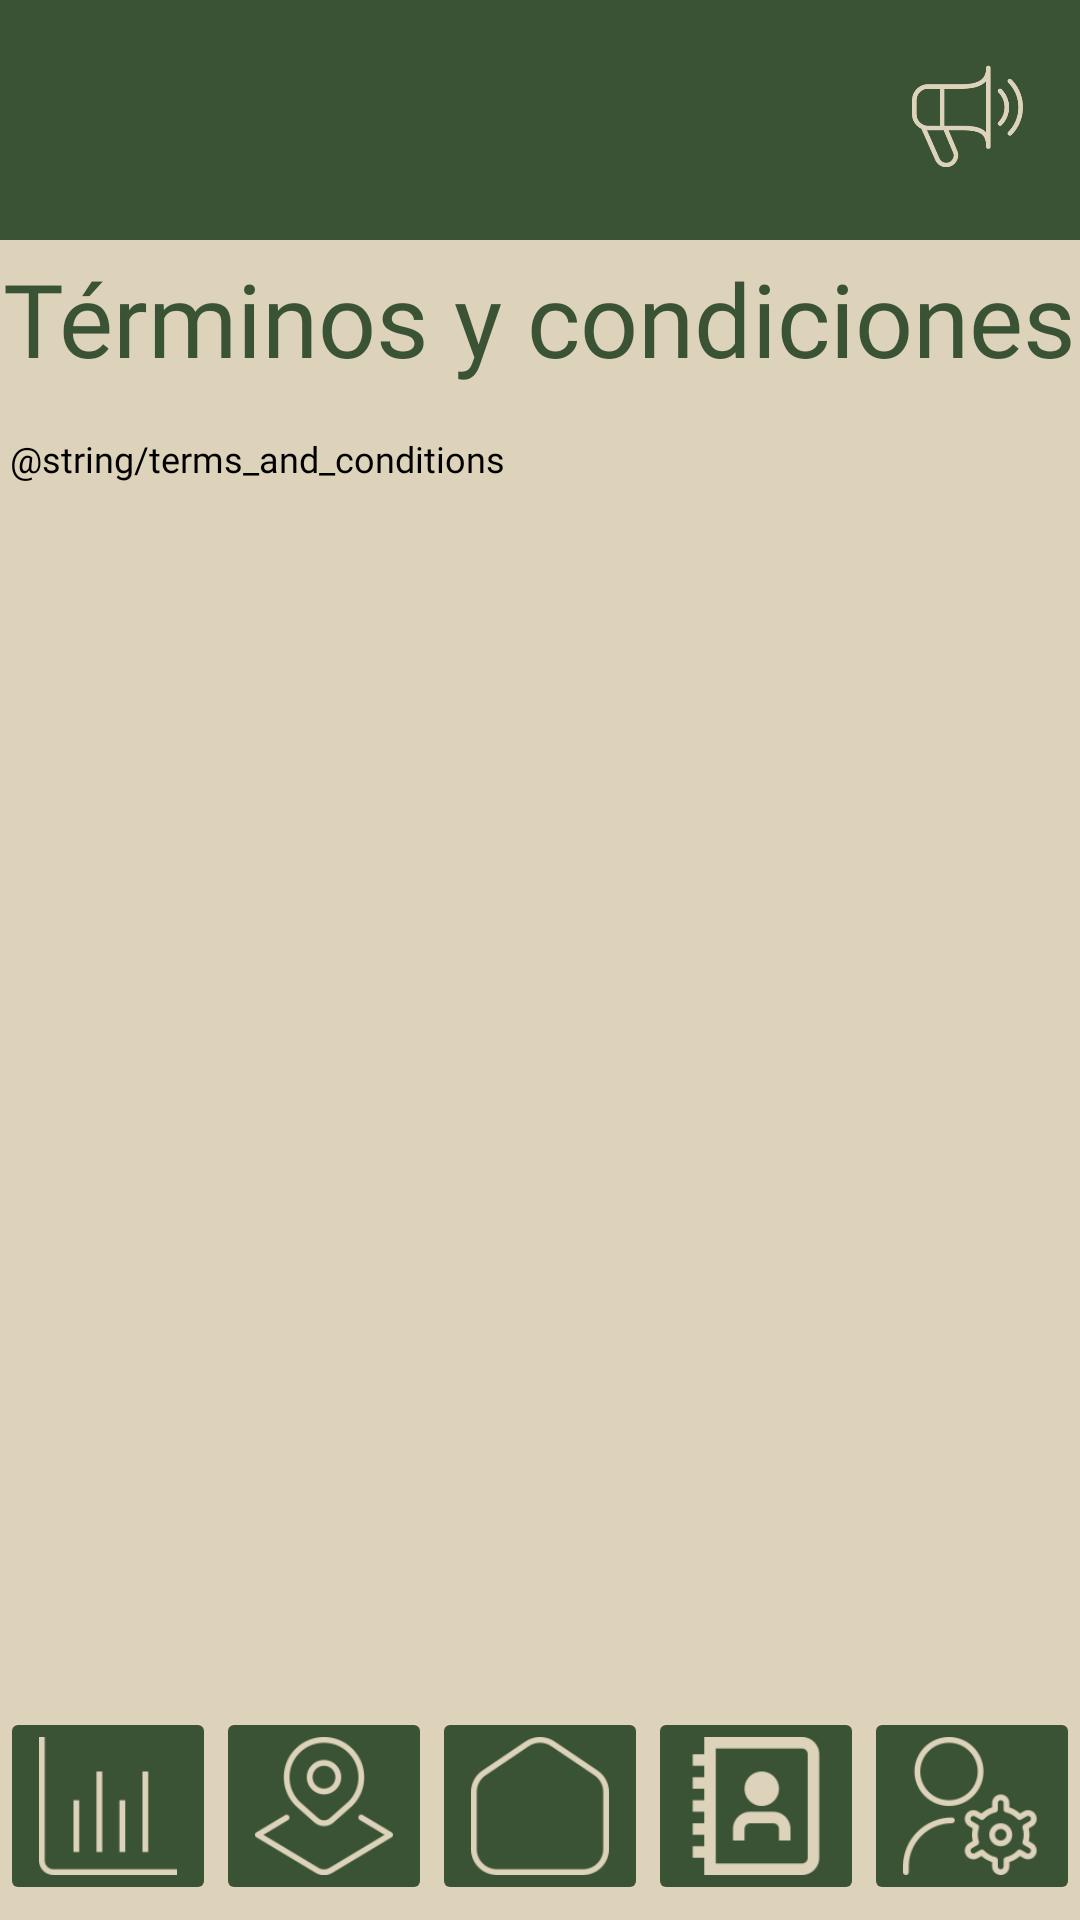

Named icons in this screenshot (1080px x 1920px) and their bounding boxes, (left=x1, top=y1, right=x2, bottom=y2):
Botón de inicio: (left=444, top=1725, right=636, bottom=1887)
Botón para ir a la página de agenda: (left=660, top=1725, right=852, bottom=1887)
Botón para ir a la página de ajustes de usuario: (left=876, top=1725, right=1068, bottom=1887)
Botón para ir a la página de anuncios: (left=912, top=65, right=1023, bottom=167)
Botón para ir a la página de gráficas: (left=12, top=1725, right=204, bottom=1887)
Botón para ir a la página de mapa: (left=228, top=1725, right=420, bottom=1887)
